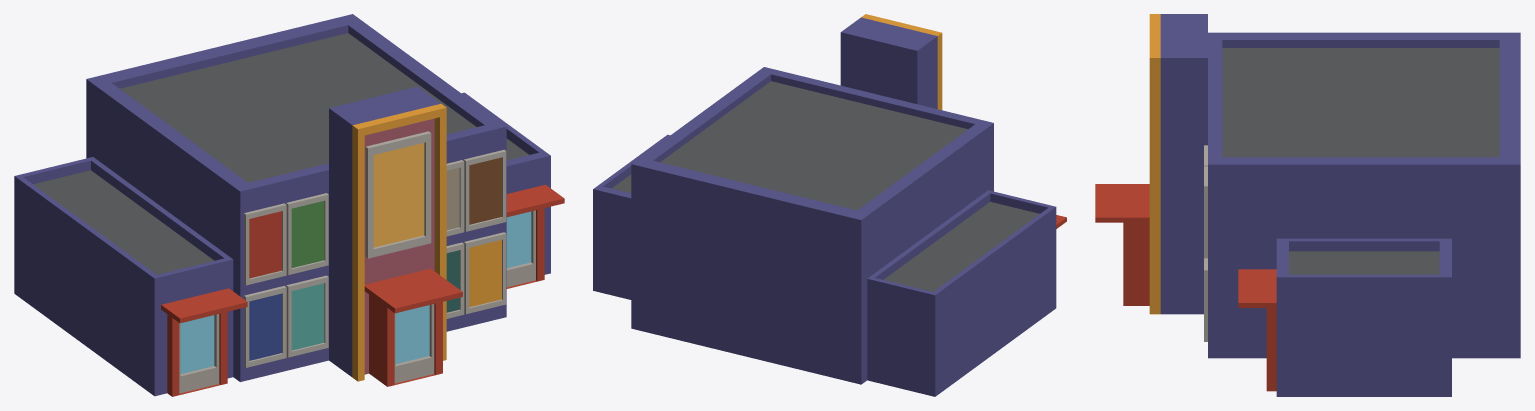
The model's file is SM_house_39.gltf.
The picture shows the model from 3 angles, left to right: view 1: azimuth 30°, elevation 25°; view 2: azimuth 150°, elevation 25°; view 3: azimuth 270°, elevation 25°; orthographic projection. The views are drawn at different scales.
Visible parts, largest first — view 1: SM_house_39; view 2: SM_house_39; view 3: SM_house_39.
Part boxes in pixels (x1,y1,x2,y2): SM_house_39: (14,14,564,396); SM_house_39: (593,14,1066,396); SM_house_39: (1095,14,1520,396).
Bounding box in the file's own units: 4.73 × 2.7 × 4.06.
